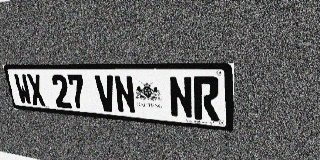2: (51, 74, 72, 108)
7: (66, 74, 88, 110)
N: (168, 76, 194, 119), (113, 75, 137, 114)
R: (193, 76, 219, 121)
V: (94, 75, 117, 112)
W: (13, 74, 33, 105)
X: (26, 74, 46, 106)
